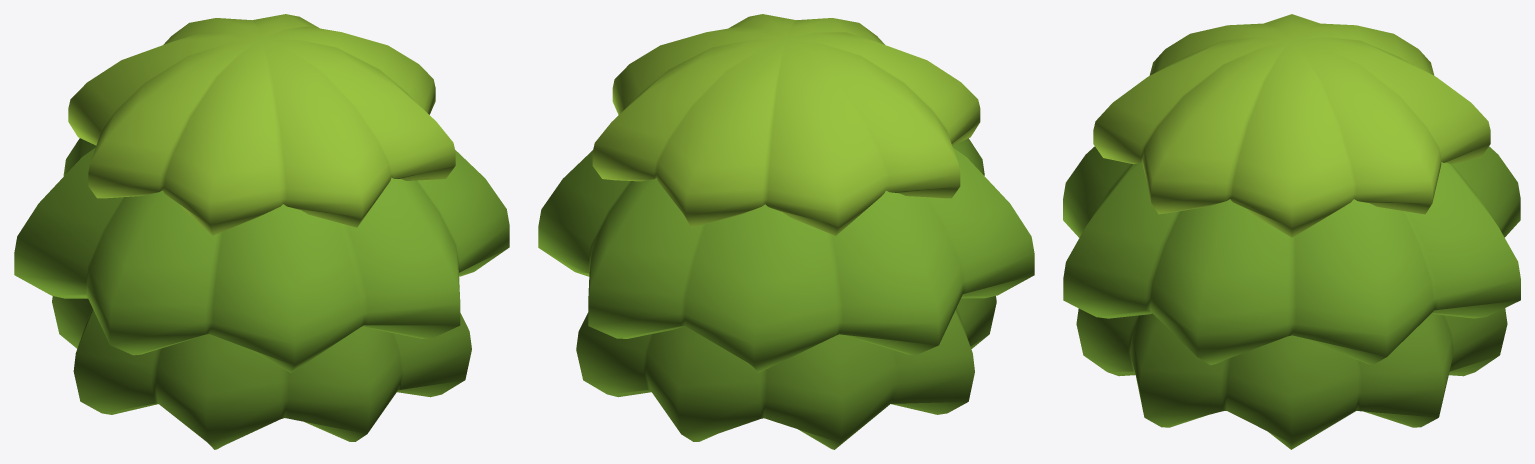
File: bush medium.fbx
3 renders of one model, left to right at view 1: azimuth 30°, elevation 25°; view 2: azimuth 150°, elevation 25°; view 3: azimuth 270°, elevation 25°, orthographic.
Parts seen in each view (by area): view 1: bush.001, bush medium, Circle.002; view 2: bush.001, bush medium, Circle.002; view 3: bush.001, bush medium, Circle.002.
Part boxes in pixels (x1,y1,x2,y2): bush.001: (14,138,509,372); bush medium: (68,14,455,235); Circle.002: (52,296,471,449); bush.001: (538,138,1034,372); bush medium: (592,14,980,235); Circle.002: (576,296,996,449); bush.001: (1063,146,1520,365); bush medium: (1093,14,1490,237); Circle.002: (1076,308,1507,449).
Size of the model in its own units: 241 by 195 by 241.
